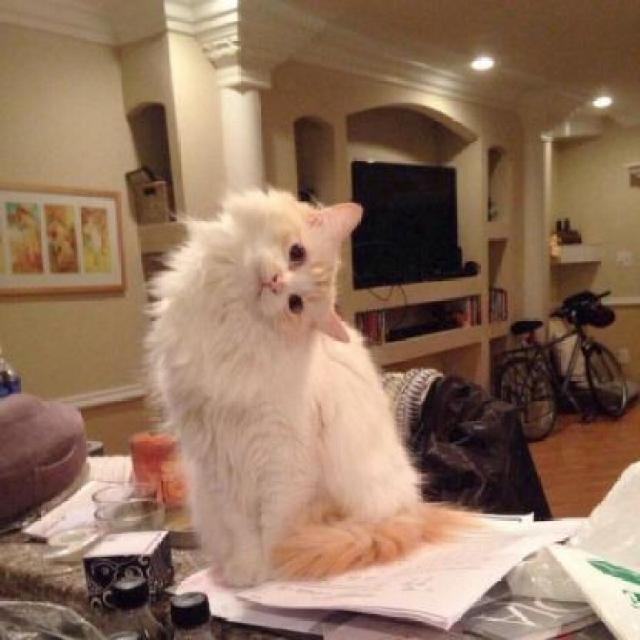cat: (132, 198, 392, 584)
